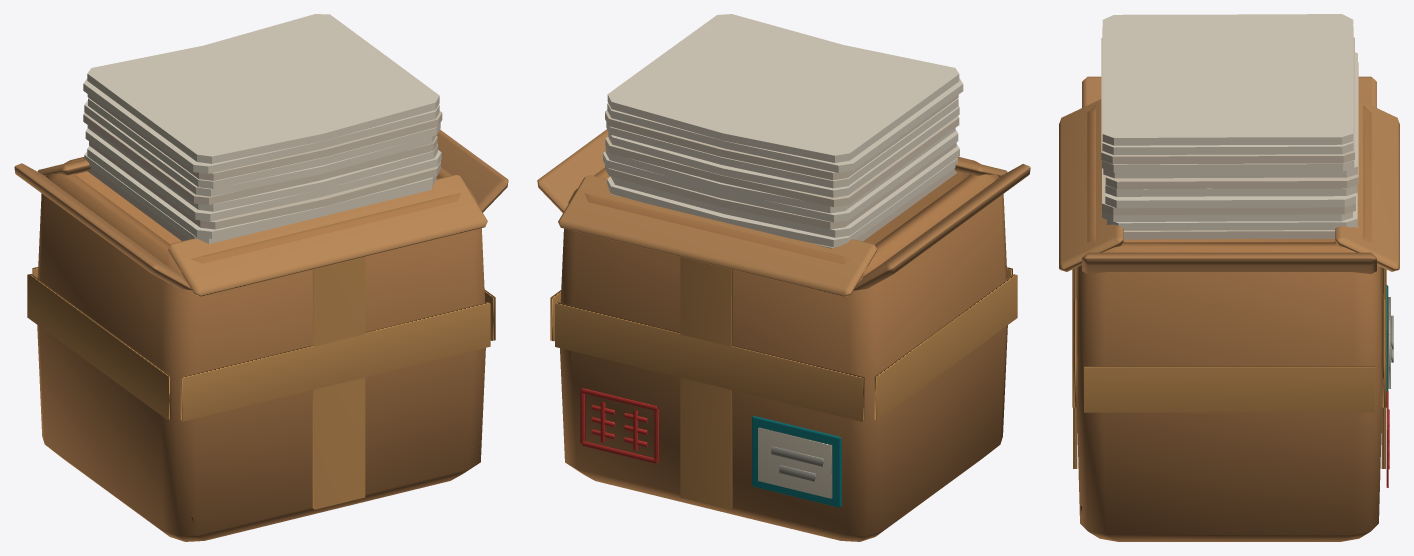
Rendered from paper_box.glb.
3 views of the same model, side by side, from view 1: azimuth 30°, elevation 25°; view 2: azimuth 150°, elevation 25°; view 3: azimuth 270°, elevation 25° (orthographic). The views are drawn at different scales.
Visible parts, largest first — view 1: CartonBody_Geometry, PaperTop_Geometry, PaperBox_FoldedLip.001, PaperMiddle_Geometry, PaperLow_Geometry, PaperBox_FoldedSide, PaperBox_FoldedSide.001; view 2: CartonBody_Geometry, PaperTop_Geometry, PaperBox_FoldedLip, PaperMiddle_Geometry, PaperLow_Geometry, PaperBox_FoldedSide, PaperBox_FoldedSide.001; view 3: CartonBody_Geometry, PaperTop_Geometry, PaperMiddle_Geometry, PaperLow_Geometry, PaperBox_FoldedLip.001, PaperBox_FoldedLip, PaperBox_FoldedSide.001, PaperBox_FoldedSide.
Boxes of the visible parts, x1,y1,x2,y2 form: CartonBody_Geometry: (27, 157, 495, 541); PaperTop_Geometry: (83, 14, 442, 188); PaperBox_FoldedLip.001: (168, 174, 487, 296); PaperMiddle_Geometry: (83, 100, 441, 221); PaperLow_Geometry: (84, 141, 440, 243); PaperBox_FoldedSide: (14, 163, 191, 290); PaperBox_FoldedSide.001: (436, 129, 508, 212); CartonBody_Geometry: (550, 157, 1017, 541); PaperTop_Geometry: (605, 14, 963, 188); PaperBox_FoldedLip: (558, 175, 877, 296); PaperMiddle_Geometry: (603, 106, 959, 222); PaperLow_Geometry: (605, 142, 959, 248); PaperBox_FoldedSide: (853, 164, 1030, 290); PaperBox_FoldedSide.001: (537, 129, 608, 212); CartonBody_Geometry: (1072, 105, 1393, 541); PaperTop_Geometry: (1101, 14, 1354, 172); PaperMiddle_Geometry: (1103, 52, 1358, 208); PaperLow_Geometry: (1102, 168, 1357, 239); PaperBox_FoldedLip.001: (1059, 99, 1123, 271); PaperBox_FoldedLip: (1335, 99, 1399, 271); PaperBox_FoldedSide.001: (1082, 252, 1376, 273); PaperBox_FoldedSide: (1082, 76, 1376, 107).
Size of the model in its own units: 1.13 by 1.15 by 0.9008.
